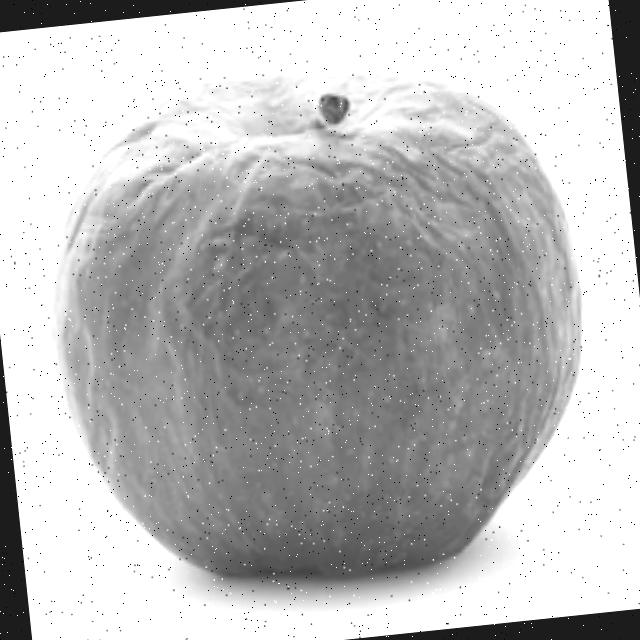Rotten: (22, 31, 616, 606)
